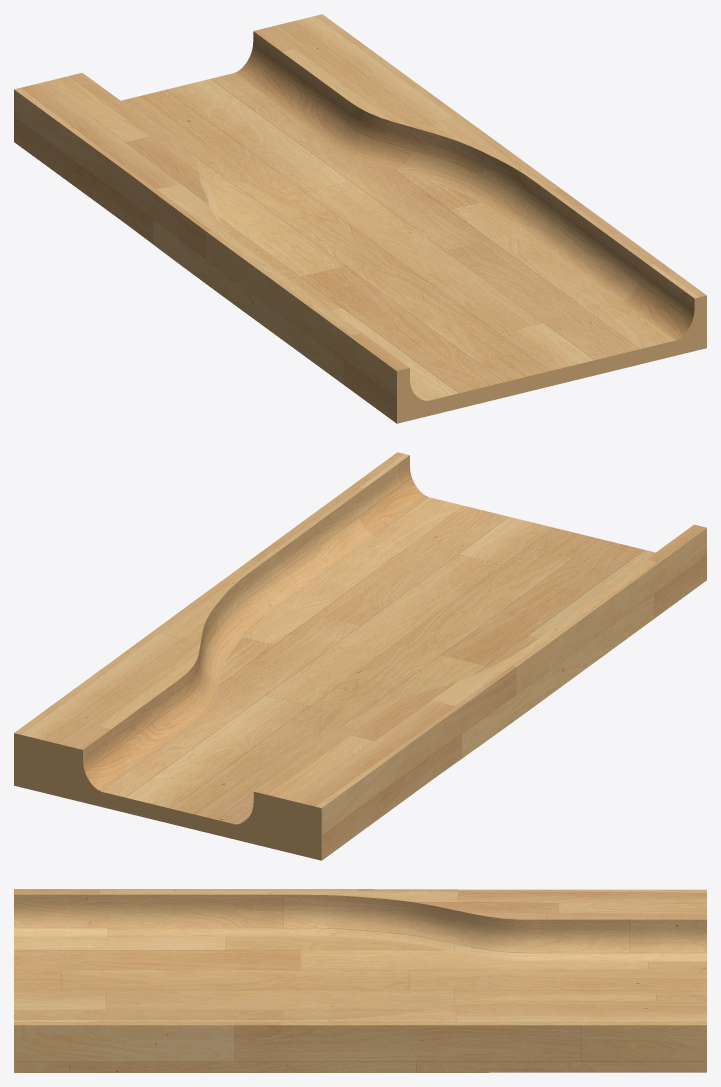
File: Road4.fbx
3 renders of one model, top to bottom at view 1: azimuth 30°, elevation 25°; view 2: azimuth 150°, elevation 25°; view 3: azimuth 270°, elevation 25°, orthographic. The views are drawn at different scales.
Visible parts, largest first — view 1: wideRoad; view 2: wideRoad; view 3: wideRoad.
Boxes of the visible parts, <box> form: wideRoad: <box>14,14,706,423</box>; wideRoad: <box>14,452,706,860</box>; wideRoad: <box>14,889,706,1072</box>.
Bounding box in the file's own units: 869 × 141 × 1866.
